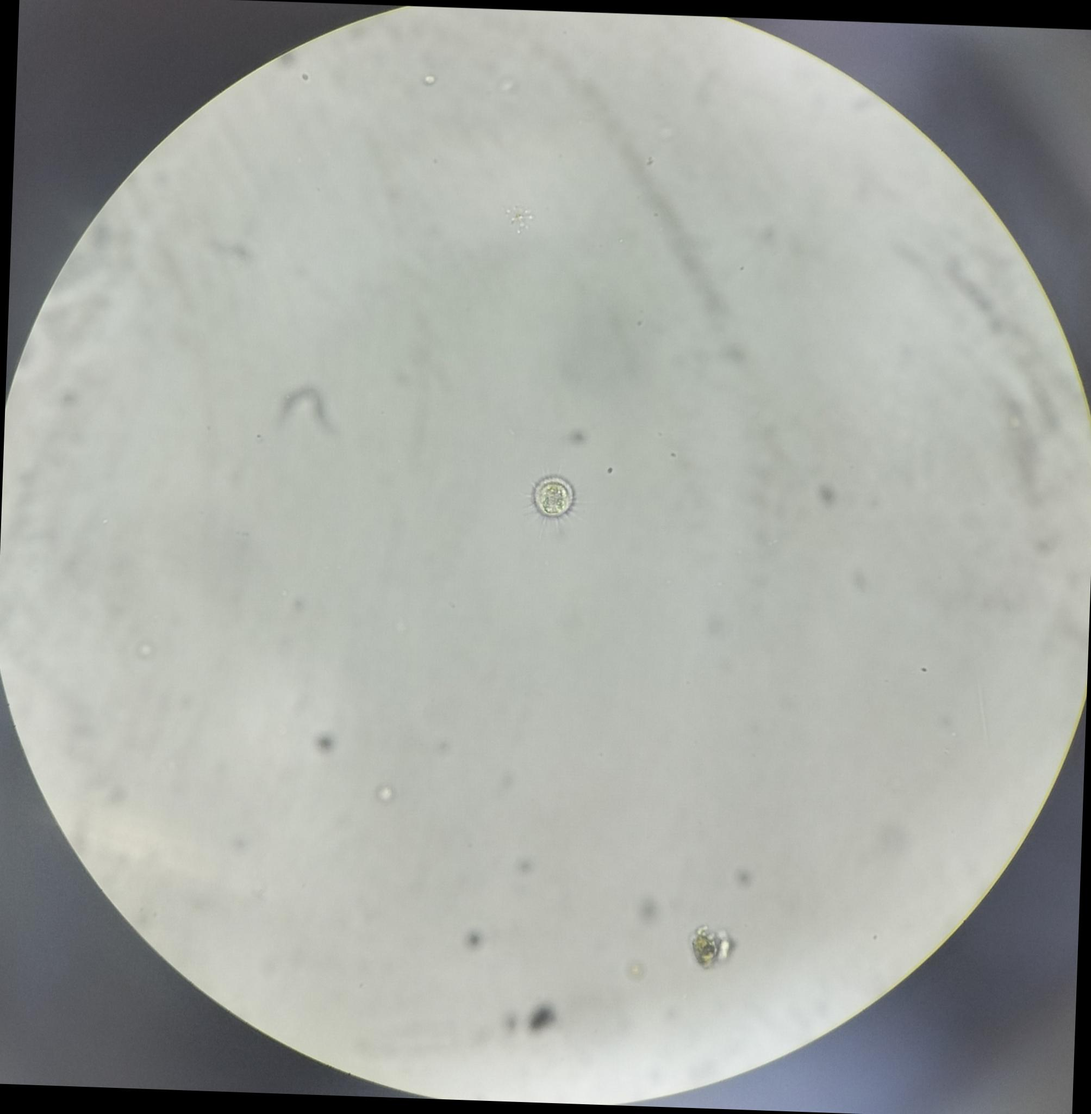Chlorella: (503, 457, 610, 545)
